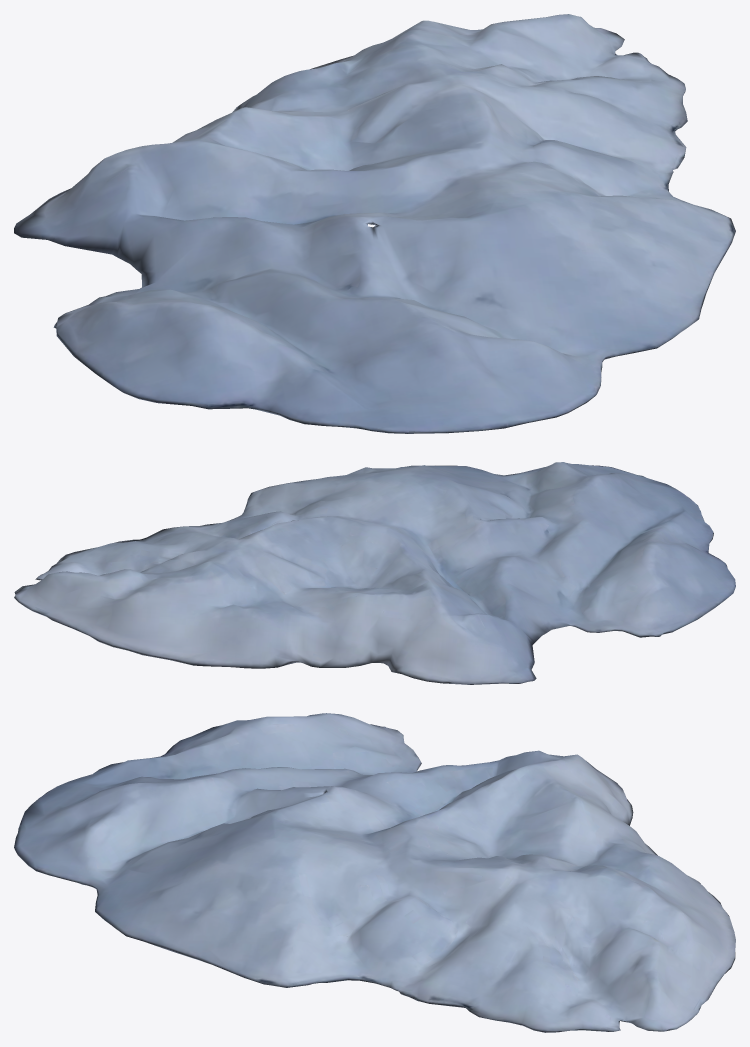
File: snow.glb
3 renders of one model, top to bottom at view 1: azimuth 30°, elevation 25°; view 2: azimuth 150°, elevation 25°; view 3: azimuth 270°, elevation 25°, orthographic. The views are drawn at different scales.
Size of the model in its own units: 2 by 0.1932 by 1.96.
Materials: 1 (1 with a texture image).
